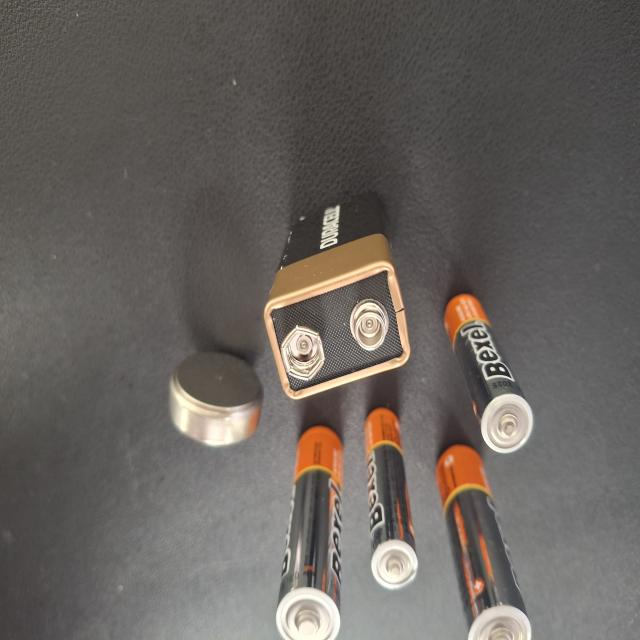9V: (231, 242, 375, 444)
AA: (109, 0, 204, 195), (297, 0, 364, 213)
AAA: (107, 187, 195, 346), (222, 50, 276, 232)
COIN: (377, 194, 471, 288)
